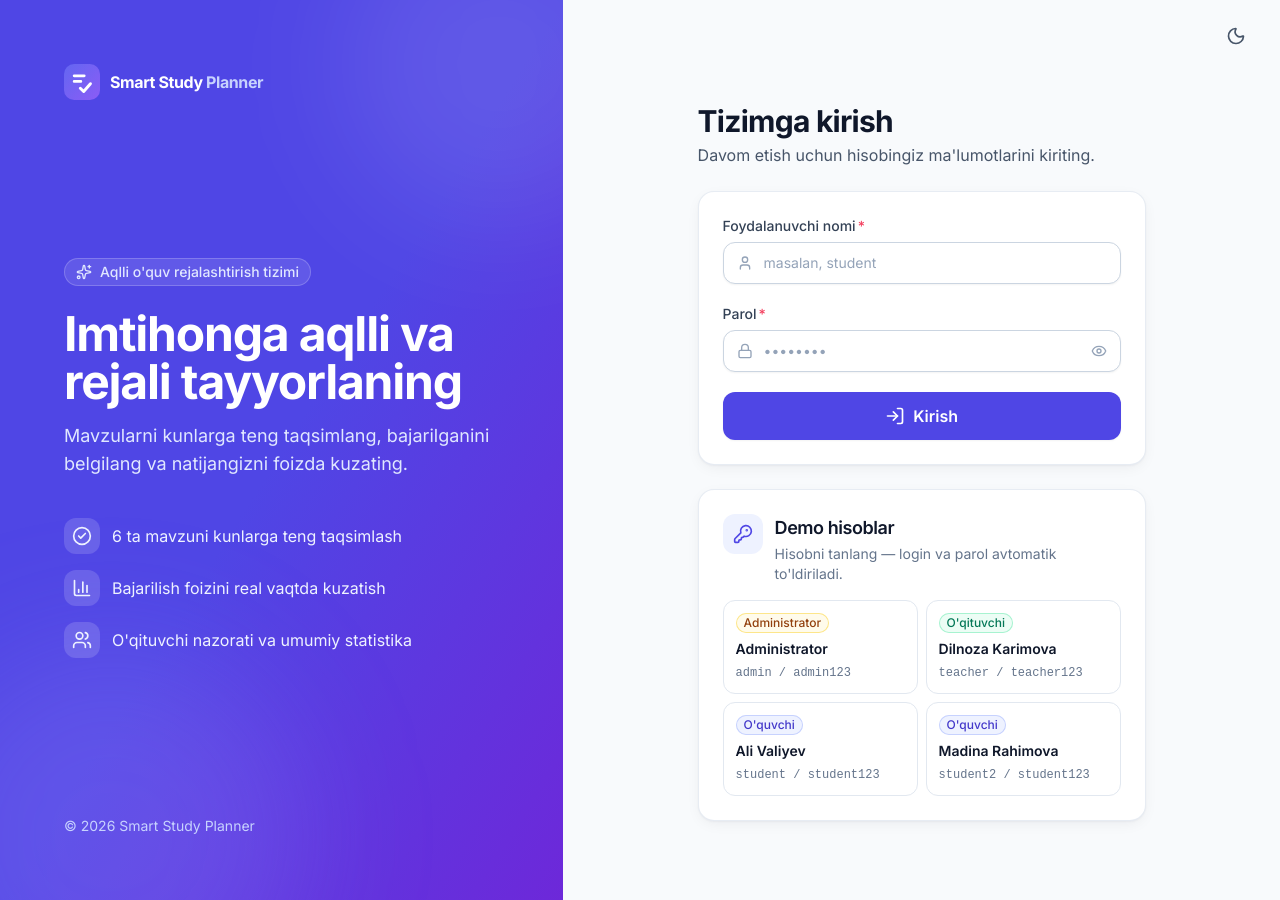
Test: LoginPage › fills the form from a demo account card
Click the button with aria-label "teacher) hisobi bilan to'ldirish".
click(1023, 647)  # box [926,600,1121,694]
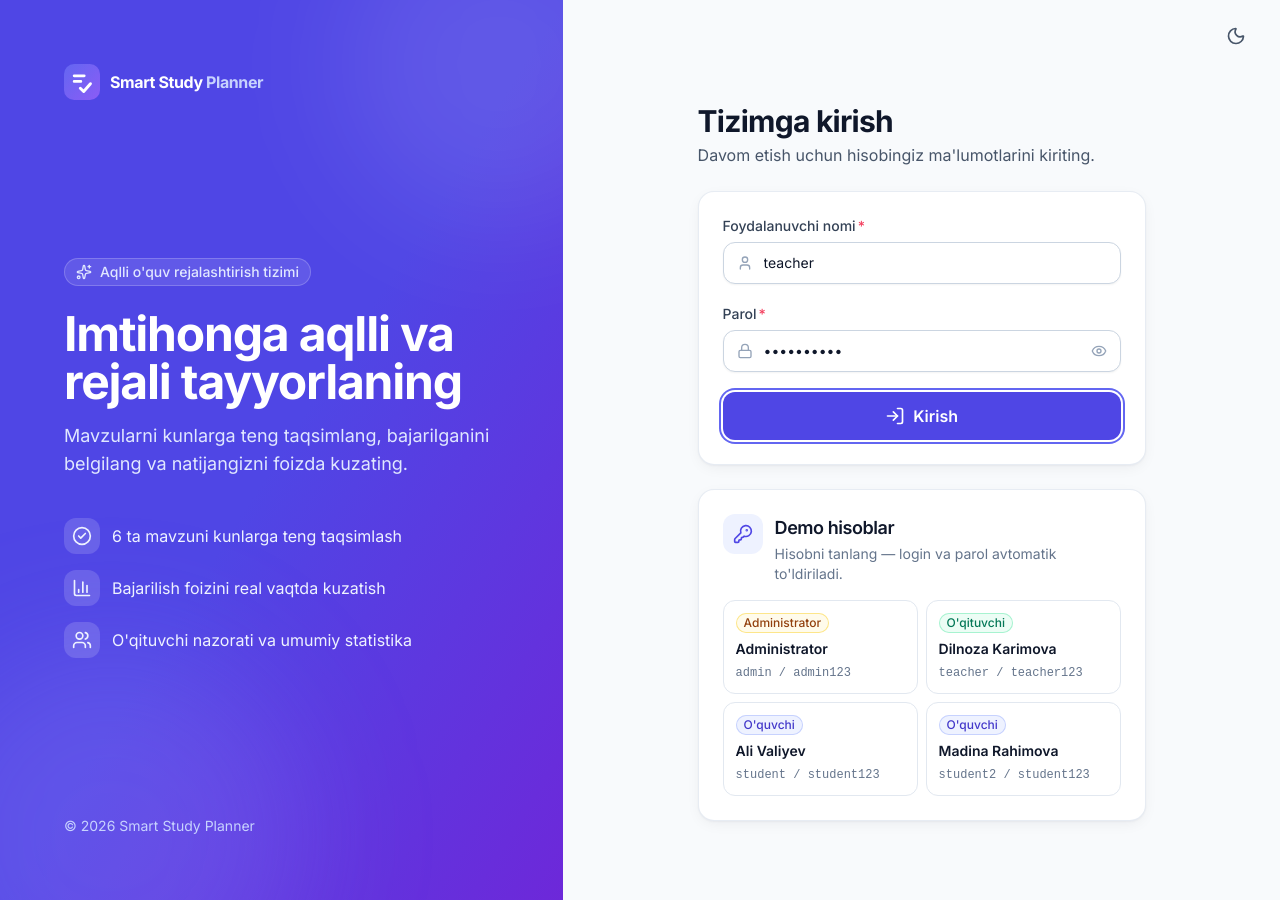
Expected: the field labelled "Foydalanuvchi nomi*" holds "teacher", [723,242,1121,284]
Expected: the password field labelled "Parol*" holds "teacher123", [723,330,1121,372]
